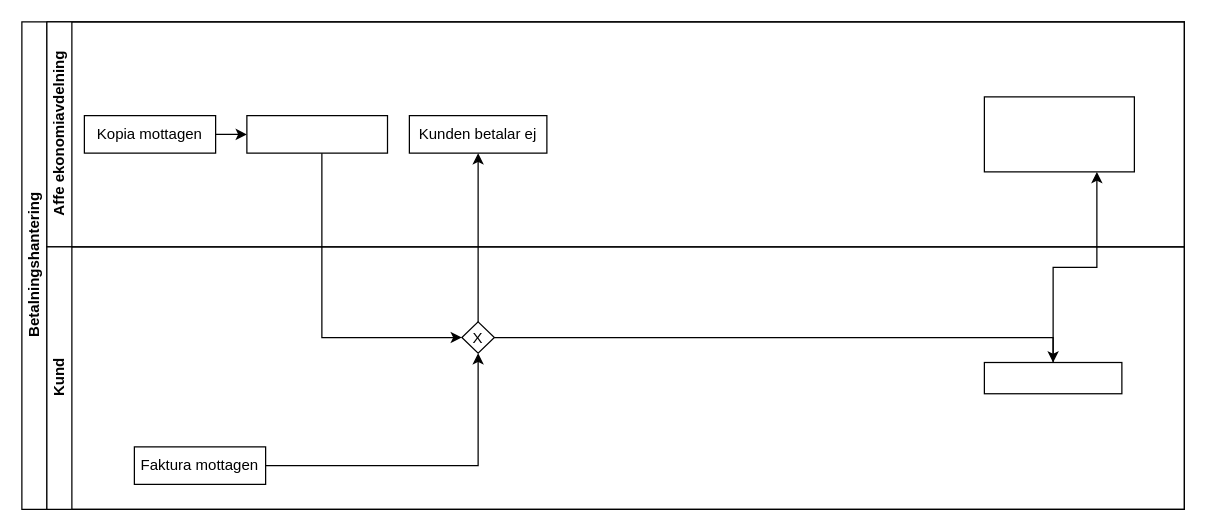
Image size: 1206x531. Some labels were removed from this diagram. Each missing label, with the centre of its shape:
"Kunden betalar" belongs at point 1052,377.
"Manuell inmatning" belongs at point 317,133.
"Pengar mottagna" belongs at point 1058,134.
